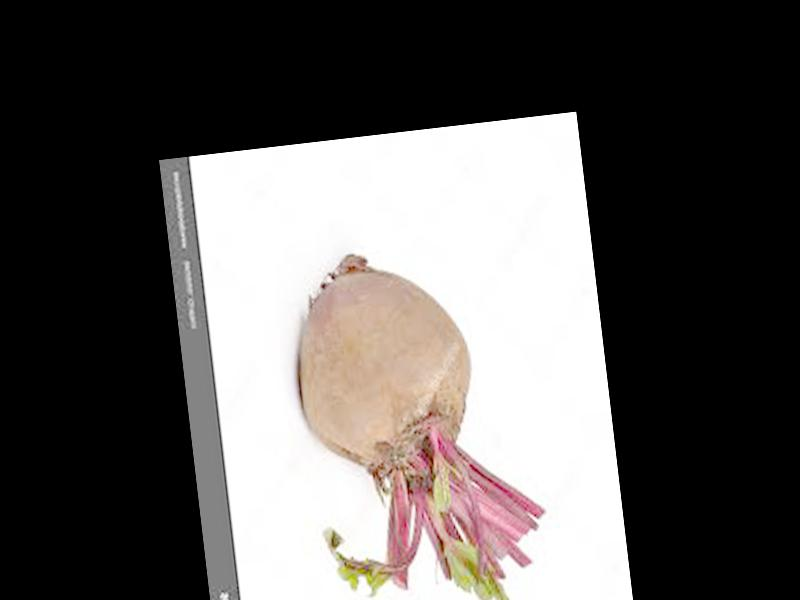Beet: (282, 235, 557, 600)
